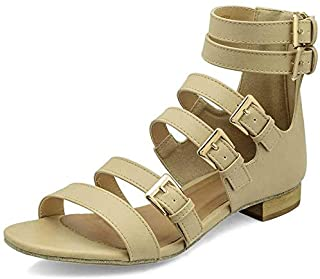shoes: (1, 1, 320, 268)
